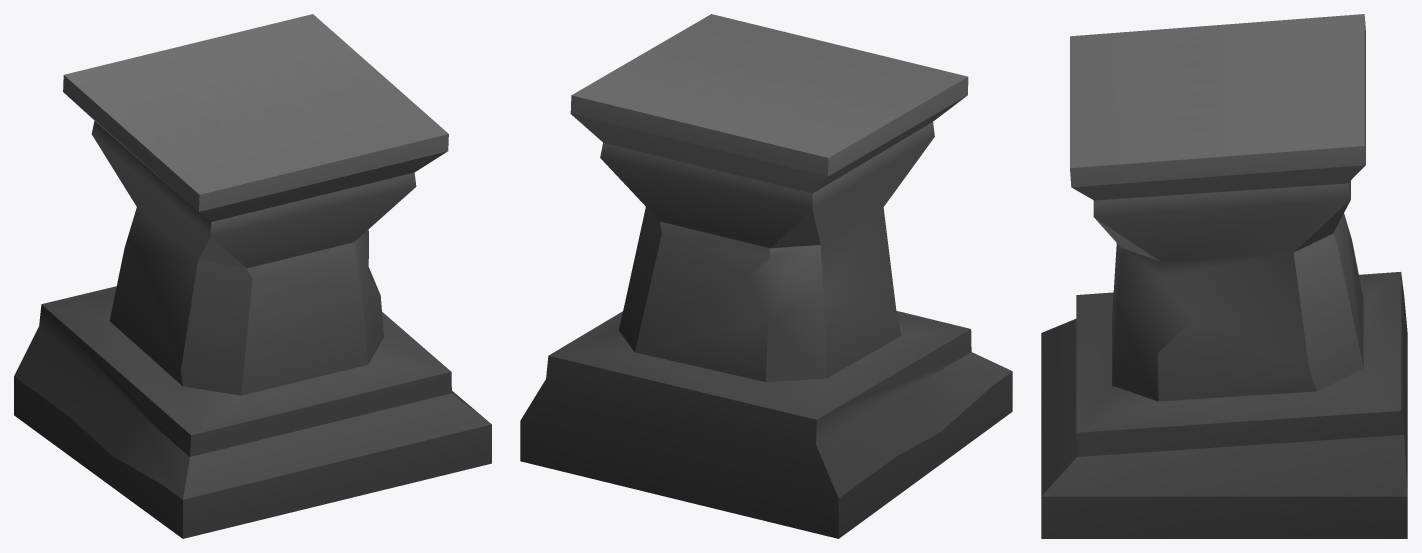
Rendered from Obstacle_MysticForest.fbx.
The picture shows the model from 3 angles, left to right: view 1: azimuth 30°, elevation 25°; view 2: azimuth 150°, elevation 25°; view 3: azimuth 270°, elevation 25°; orthographic projection. The views are drawn at different scales.
Parts seen in each view (by area): view 1: Obstacle_MysticForest; view 2: Obstacle_MysticForest; view 3: Obstacle_MysticForest.
Boxes of the visible parts, left/top/right/bottom form: Obstacle_MysticForest: left=14, top=14, right=491, bottom=538; Obstacle_MysticForest: left=520, top=14, right=1012, bottom=538; Obstacle_MysticForest: left=1041, top=14, right=1407, bottom=538.
Bounding box in the file's own units: 92.1 × 99.07 × 87.16.
1 material, 1 textured.
